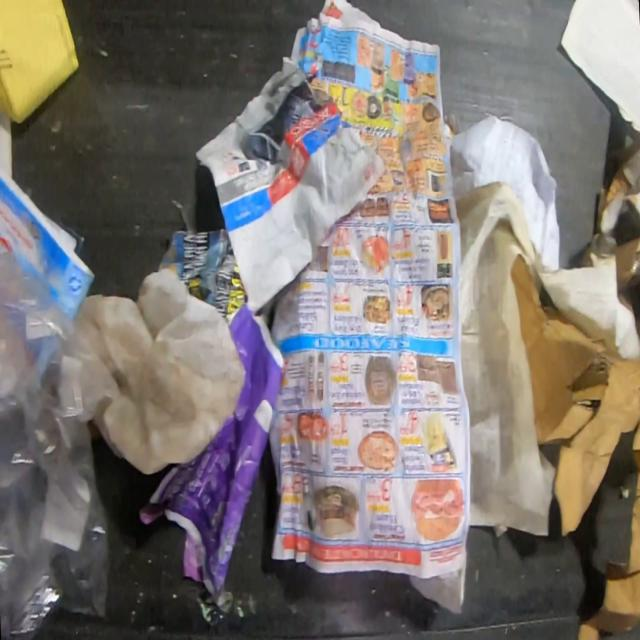cardboard: (512, 251, 639, 639)
soft_plastic: (0, 247, 119, 638), (71, 264, 248, 476)
